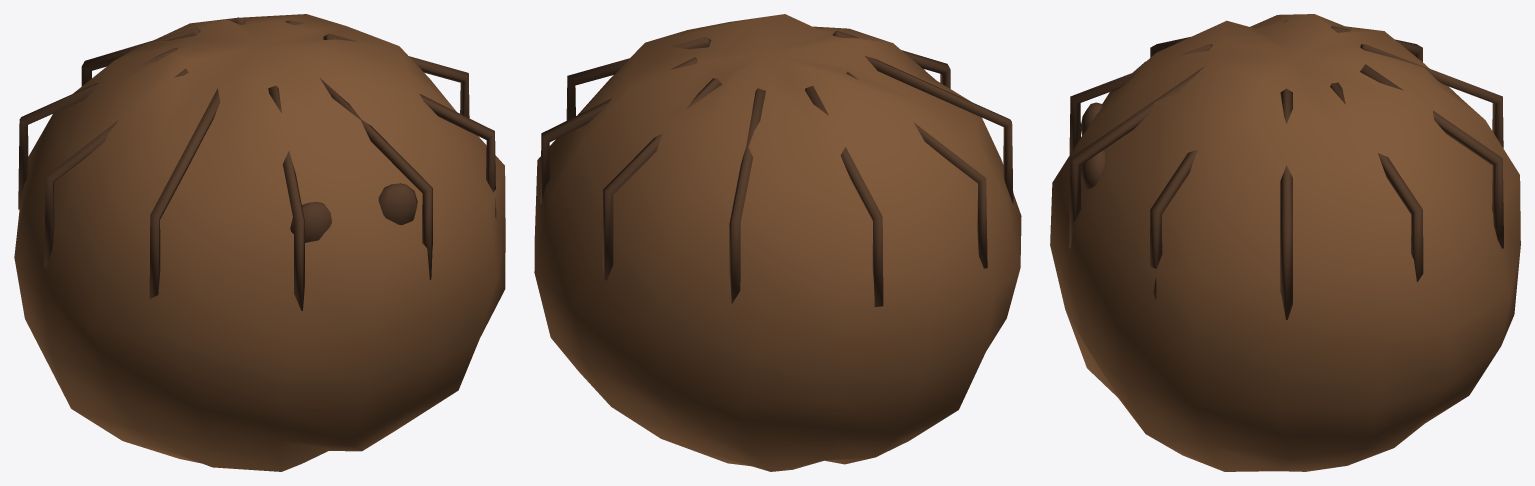
File: fruit-coconut.glb
The picture shows the model from 3 angles, left to right: view 1: azimuth 30°, elevation 25°; view 2: azimuth 150°, elevation 25°; view 3: azimuth 270°, elevation 25°; orthographic projection.
Visible parts, largest first — view 1: fruit; view 2: fruit; view 3: fruit.
Part boxes in pixels (left/top/right/bottom): fruit: left=14, top=14, right=505, bottom=471; fruit: left=534, top=14, right=1021, bottom=471; fruit: left=1050, top=14, right=1520, bottom=471.
Size of the model in its own units: 0.3154 by 0.2839 by 0.2968.
